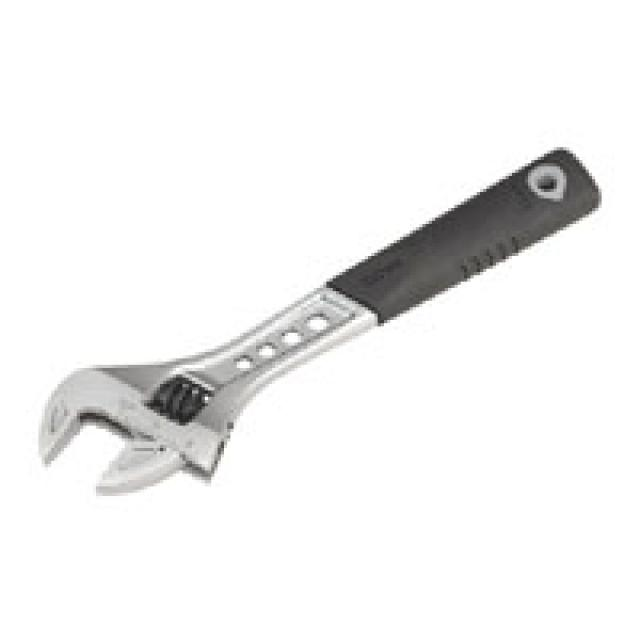wrench: (19, 115, 640, 573)
